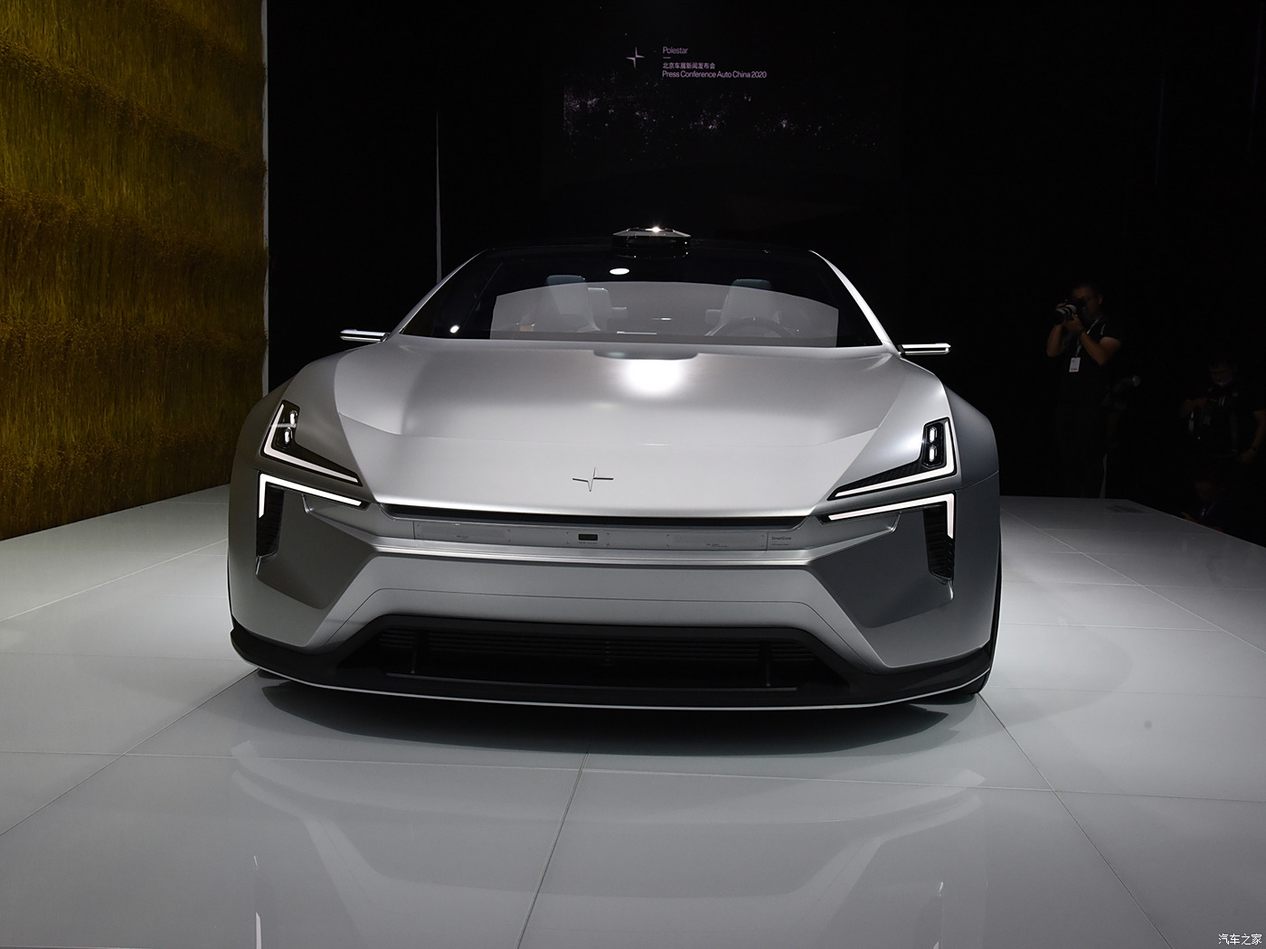Polestar: (572, 468, 613, 492)
